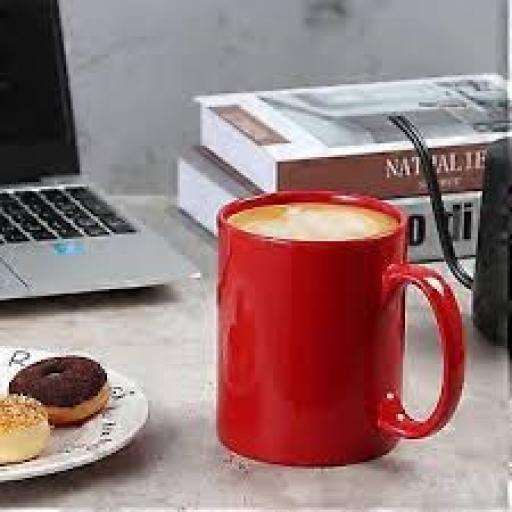red mug: (216, 191, 464, 464)
